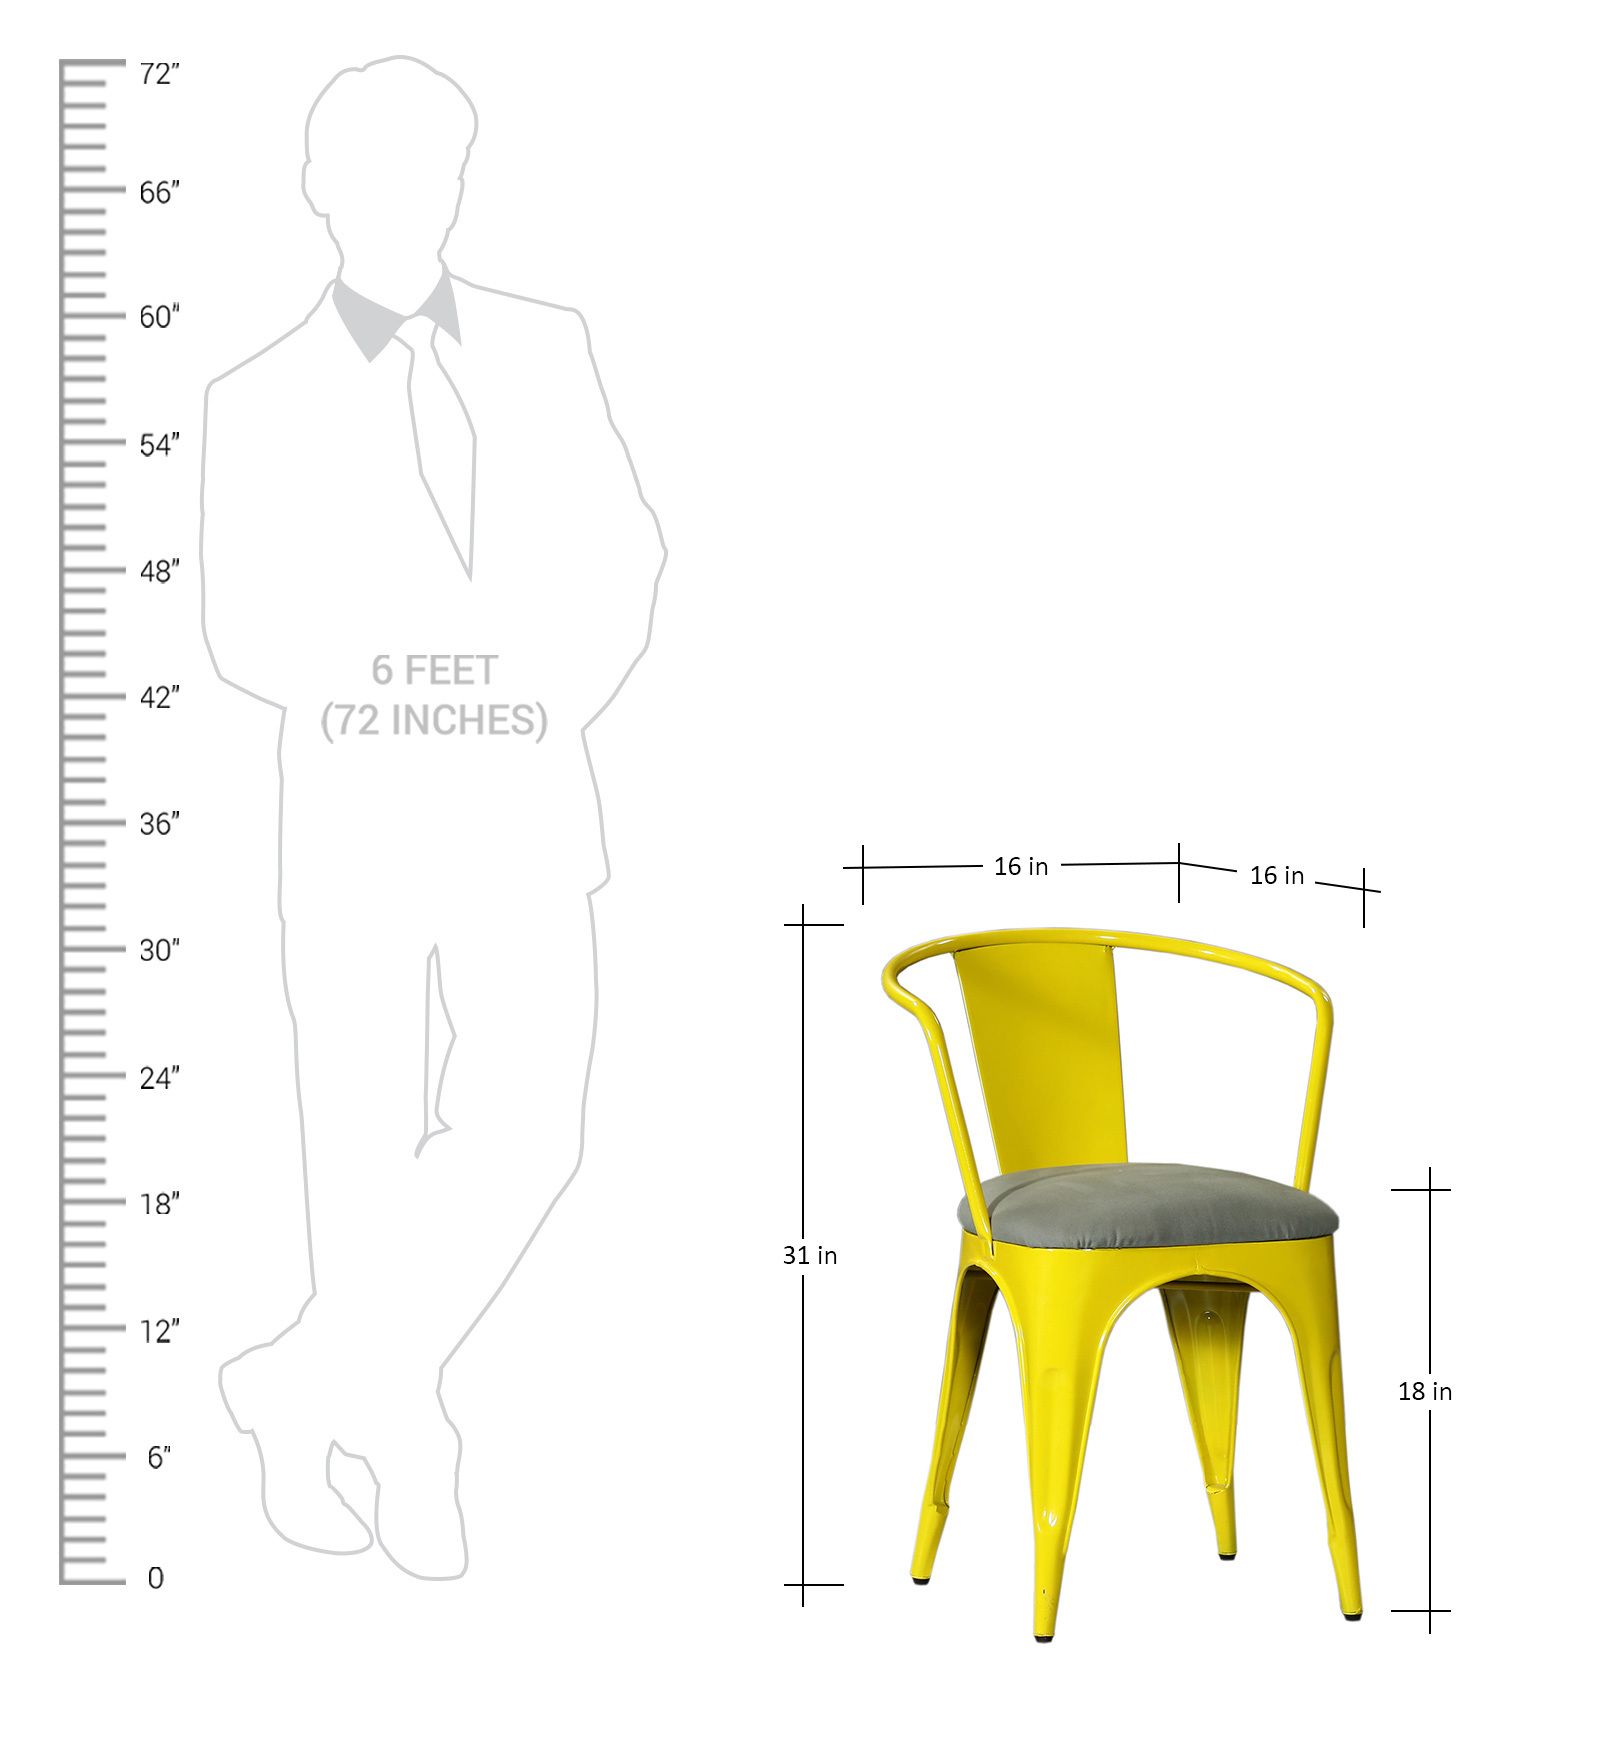Danlou Metal Chair with Cushion in Yellow Color by Bohemiana: (849, 891, 1402, 1671)
